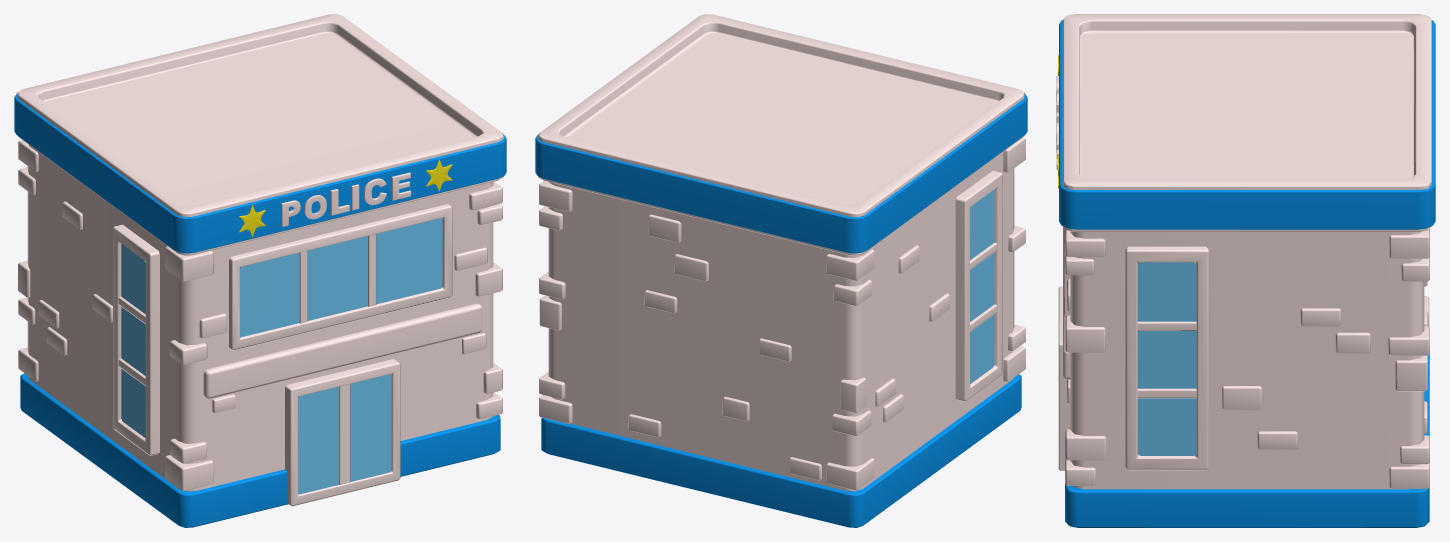
Rendered from Public_16_Police_Office_1.glb.
The picture shows the model from 3 angles, left to right: view 1: azimuth 30°, elevation 25°; view 2: azimuth 150°, elevation 25°; view 3: azimuth 270°, elevation 25°; orthographic projection. The views are drawn at different scales.
Parts seen in each view (by area): view 1: Public_16_Police_Office_1; view 2: Public_16_Police_Office_1; view 3: Public_16_Police_Office_1.
Boxes of the visible parts, bbox=[...] form: Public_16_Police_Office_1: bbox=[14, 14, 506, 527]; Public_16_Police_Office_1: bbox=[535, 14, 1027, 527]; Public_16_Police_Office_1: bbox=[1056, 14, 1435, 527].
Bounding box in the file's own units: 8.03 × 7.33 × 7.33.
Materials: 1 (1 with a texture image).
